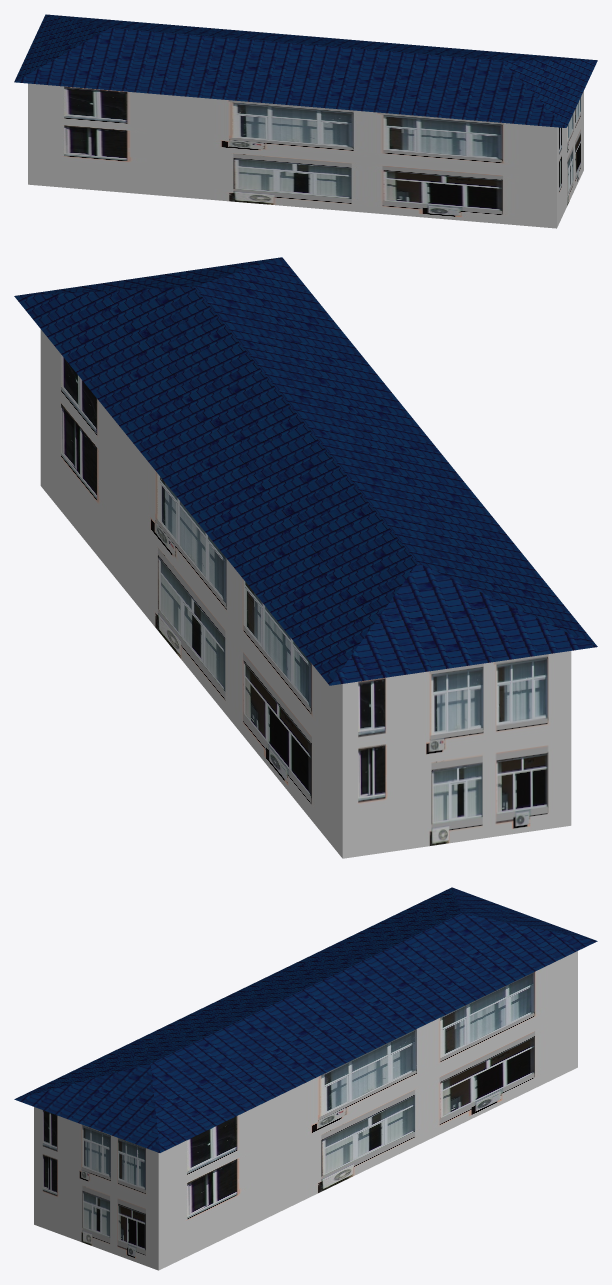
3 views of the same model, one above another, from view 1: azimuth 30°, elevation 25°; view 2: azimuth 150°, elevation 25°; view 3: azimuth 270°, elevation 25° (orthographic). The views are drawn at different scales.
Visible parts, largest first — view 1: CityEngineMaterial_9_m, CityEngineMaterial_6_m; view 2: CityEngineMaterial_6_m, CityEngineMaterial_9_m; view 3: CityEngineMaterial_9_m, CityEngineMaterial_6_m.
Part boxes in pixels (box(x1,y1,x2,y2)): CityEngineMaterial_9_m: box(28, 83, 583, 228); CityEngineMaterial_6_m: box(14, 14, 597, 127); CityEngineMaterial_6_m: box(14, 257, 597, 685); CityEngineMaterial_9_m: box(40, 329, 571, 858); CityEngineMaterial_9_m: box(34, 951, 577, 1270); CityEngineMaterial_6_m: box(14, 887, 597, 1152).
Bounding box in the file's own units: 41.43 × 11.46 × 38.45.
